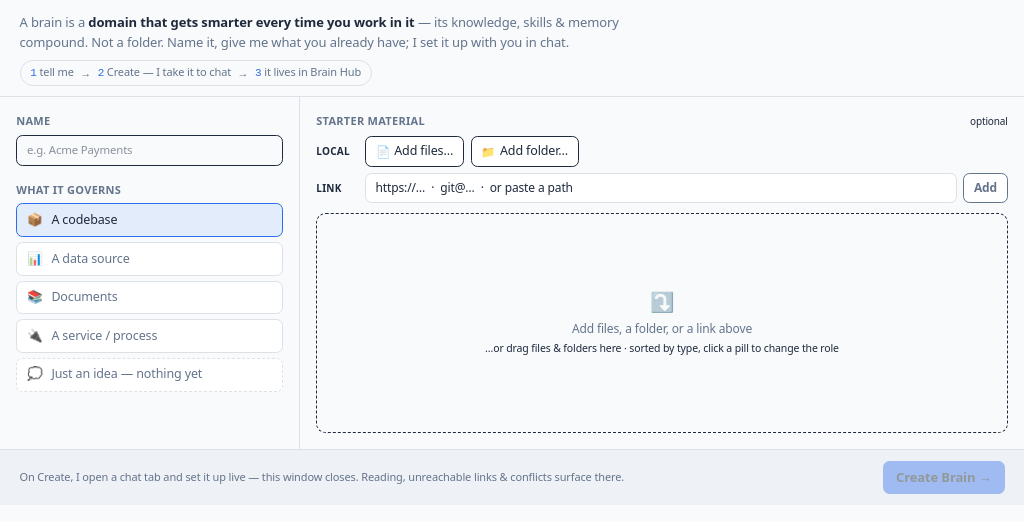
Scenario: NewBrainOverlay › AC1: "Add files…" opens the native picker (multiple) and adds each ABSOLUTE path as a file item (DISTILL)
Click the button with test id "new-brain-add-files": (414, 151) [365,136,464,167]
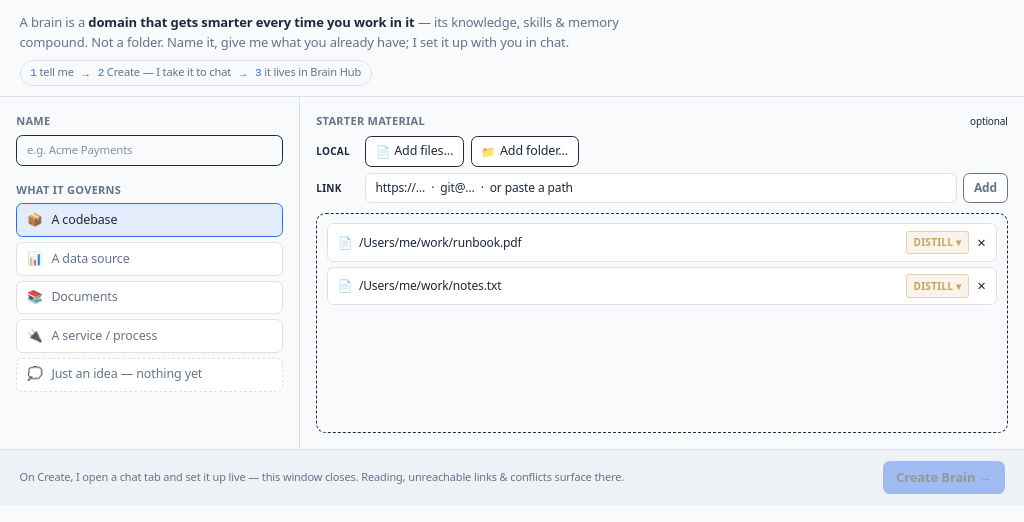
expect the text "/Users/me/work/runbook.pdf" is shown: met, box [359,234,522,251]
expect the text "/Users/me/work/notes.txt" is shown: met, box [359,277,501,294]
